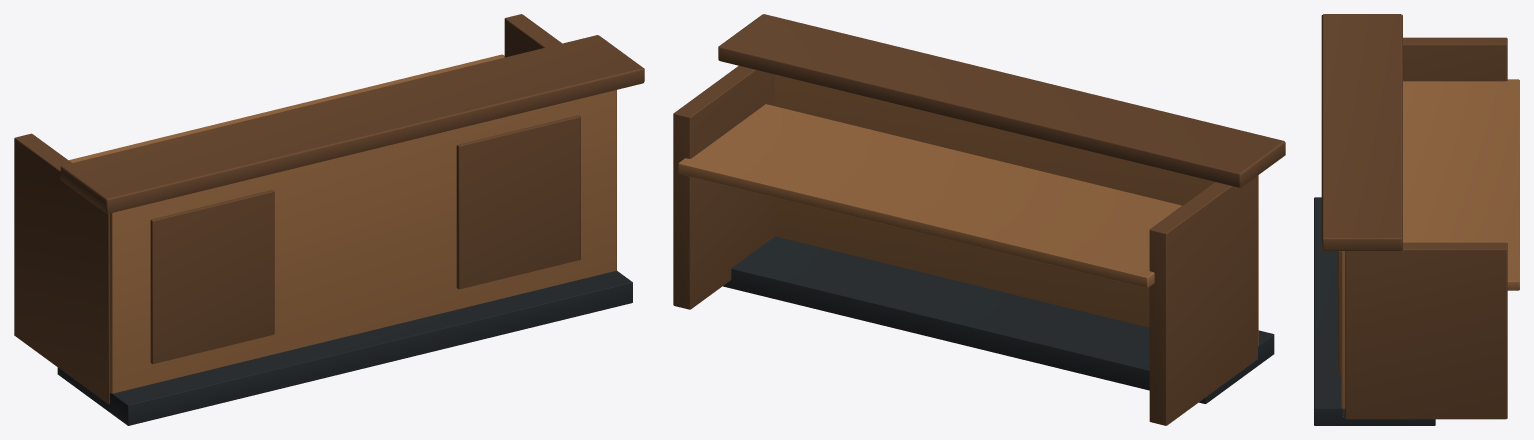
File: S038_reception_desk_rebuilt.glb
3 renders of one model, left to right at view 1: azimuth 30°, elevation 25°; view 2: azimuth 150°, elevation 25°; view 3: azimuth 270°, elevation 25°, orthographic. The views are drawn at different scales.
Visible parts, largest first — view 1: Oak_end_and_edge, Oiled_warm_oak, Deep_joint_recess; view 2: Oiled_warm_oak, Oak_end_and_edge, Deep_joint_recess; view 3: Oak_end_and_edge, Oiled_warm_oak, Deep_joint_recess.
Part boxes in pixels (x1,y1,x2,y2): Oak_end_and_edge: (14, 14, 644, 404); Oiled_warm_oak: (69, 54, 616, 393); Deep_joint_recess: (57, 270, 632, 425); Oiled_warm_oak: (678, 74, 1258, 346); Oak_end_and_edge: (673, 14, 1285, 425); Deep_joint_recess: (723, 236, 1274, 403); Oak_end_and_edge: (1321, 14, 1507, 419); Oiled_warm_oak: (1341, 79, 1519, 417); Deep_joint_recess: (1314, 197, 1435, 425).
Size of the model in its own units: 2.76 by 1.12 by 1.07.
